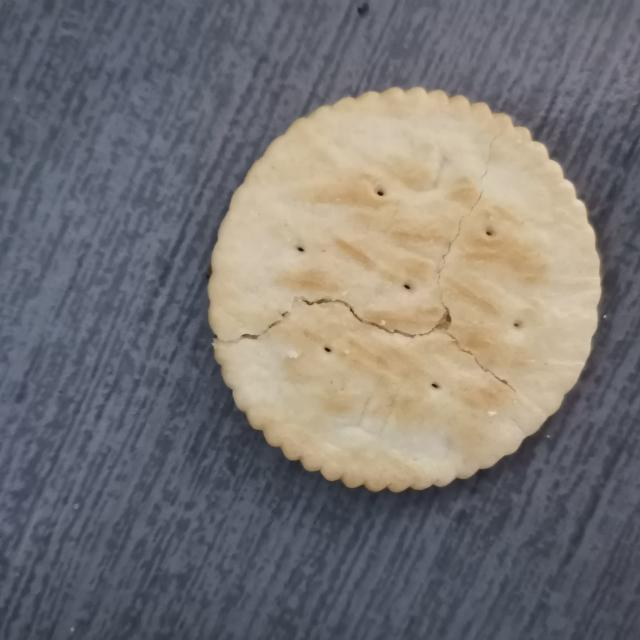Fracture: (210, 107, 562, 442)
